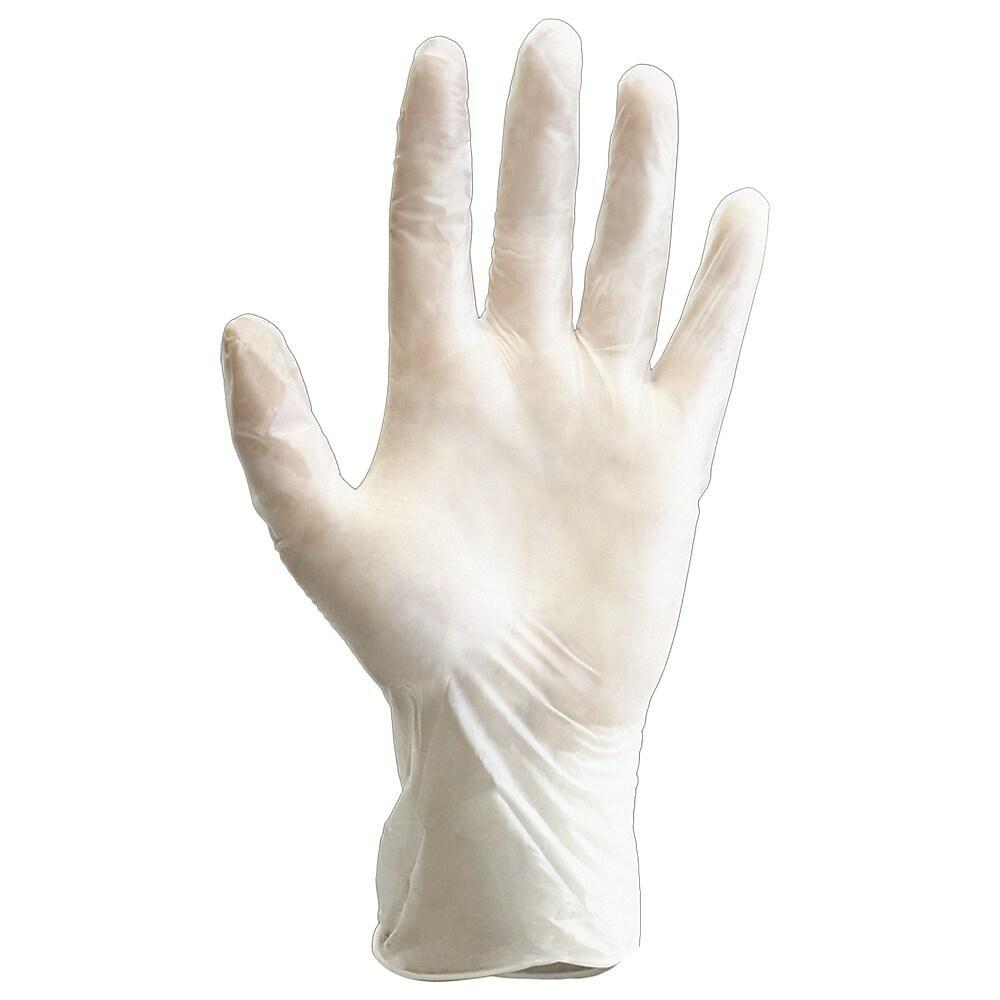gloves: (213, 8, 781, 985)
